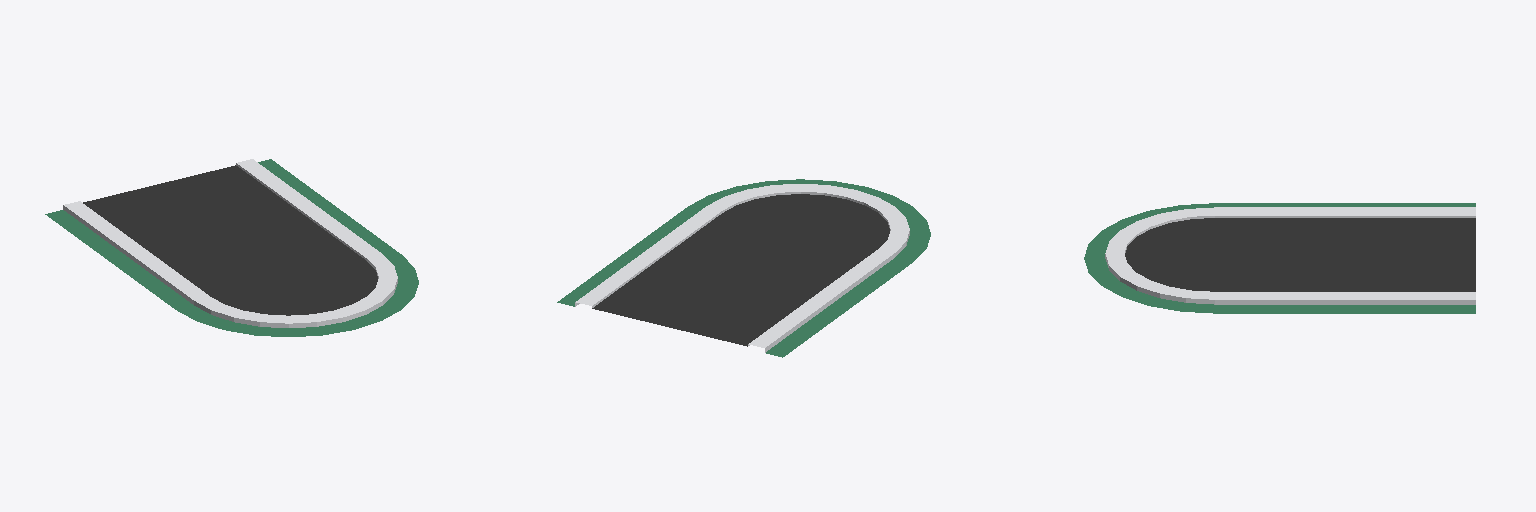
Rendered from roadEnd.obj.
3 views of the same model, side by side, from view 1: azimuth 30°, elevation 25°; view 2: azimuth 150°, elevation 25°; view 3: azimuth 270°, elevation 25° (orthographic).
Visible parts, largest first — view 1: roadEnd; view 2: roadEnd; view 3: roadEnd.
Part boxes in pixels (x1,y1,x2,y2): roadEnd: (45, 159, 418, 336); roadEnd: (557, 179, 930, 357); roadEnd: (1084, 203, 1475, 313).
Size of the model in its own units: 1 by 0.02 by 1.5.